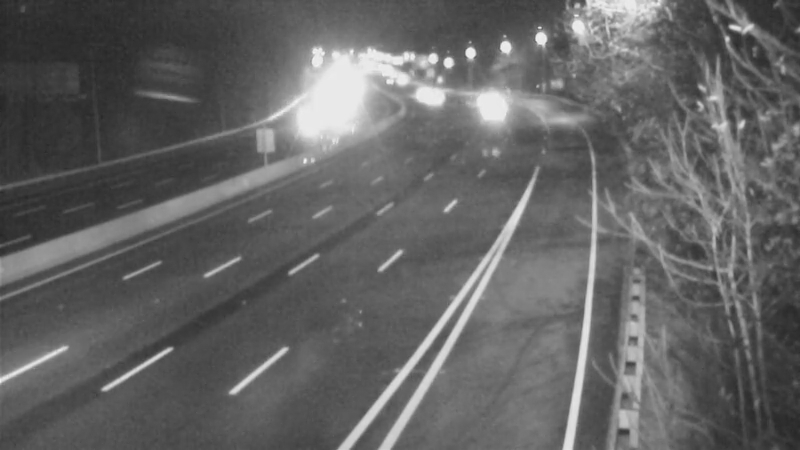vehicle: (404, 68, 454, 118), (415, 72, 465, 122), (452, 72, 502, 122), (469, 78, 519, 128), (285, 96, 335, 146)
